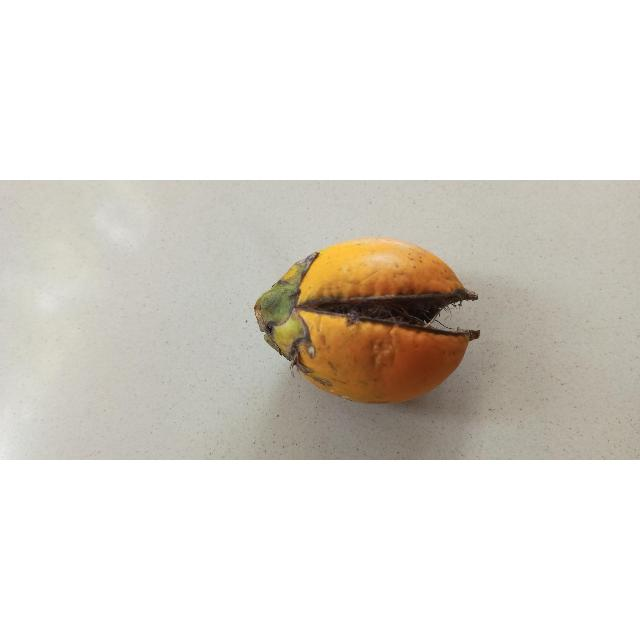damaged: (254, 238, 480, 405)
